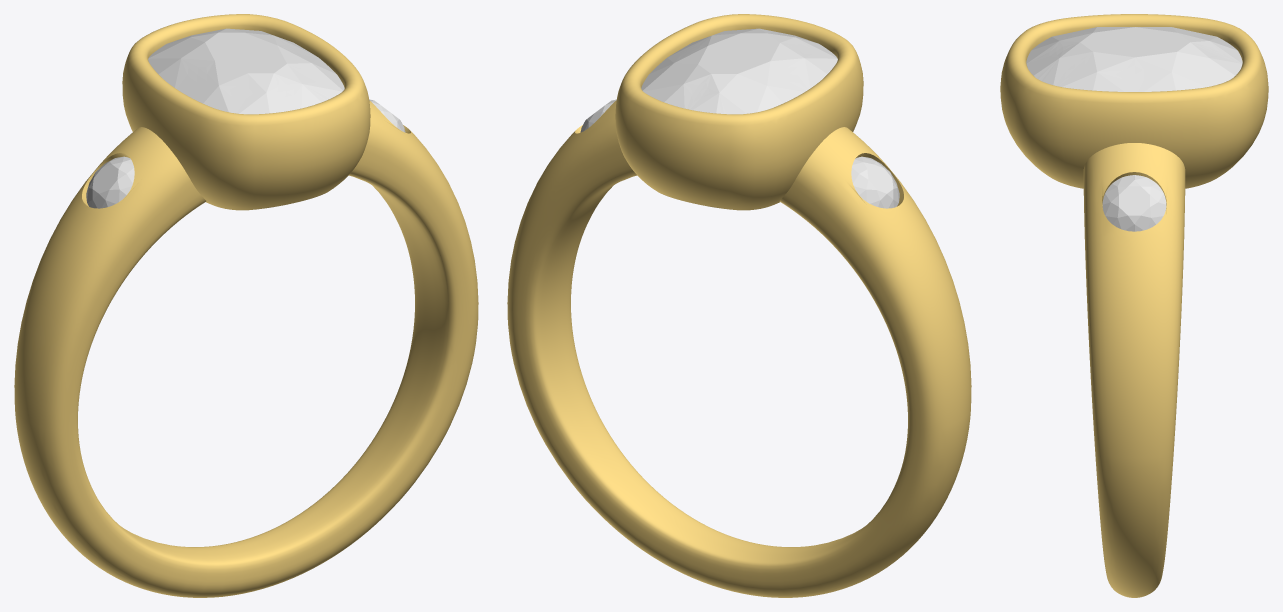
File: SamV2eng_blender.glb
The picture shows the model from 3 angles, left to right: view 1: azimuth 30°, elevation 25°; view 2: azimuth 150°, elevation 25°; view 3: azimuth 270°, elevation 25°; orthographic projection.
Visible parts, largest first — view 1: V2 Sam YG for 3d model, V2 Sam dia for 3d model, V2 Sam dia for 3d model.002; view 2: V2 Sam YG for 3d model, V2 Sam dia for 3d model, V2 Sam dia for 3d model.002; view 3: V2 Sam YG for 3d model, V2 Sam dia for 3d model, V2 Sam dia for 3d model.001.
Part boxes in pixels (bbox=[...]): V2 Sam YG for 3d model: bbox=[14, 14, 478, 597]; V2 Sam dia for 3d model: bbox=[148, 28, 344, 114]; V2 Sam dia for 3d model.002: bbox=[86, 156, 134, 208]; V2 Sam YG for 3d model: bbox=[507, 14, 971, 597]; V2 Sam dia for 3d model: bbox=[641, 28, 837, 114]; V2 Sam dia for 3d model.002: bbox=[851, 156, 899, 208]; V2 Sam YG for 3d model: bbox=[1000, 14, 1268, 597]; V2 Sam dia for 3d model: bbox=[1026, 27, 1242, 91]; V2 Sam dia for 3d model.001: bbox=[1102, 175, 1166, 231].
Bounding box in the file's own units: 20.09 × 23.03 × 10.53.
